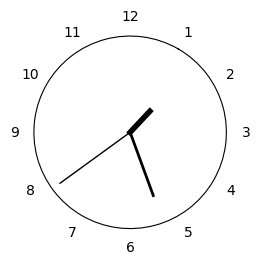12: (121, 9, 139, 24)
circle: (33, 36, 227, 228)
hours: (127, 108, 154, 135)
minutes: (130, 135, 154, 197)
seconds: (59, 134, 128, 184)
